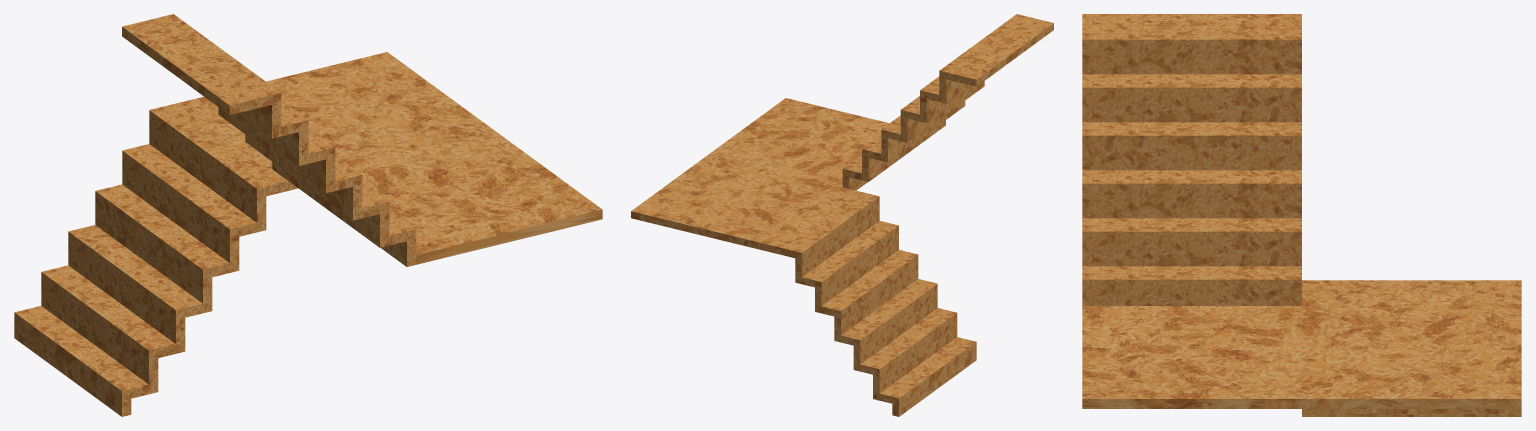
The model's file is Stairs.fbx.
The picture shows the model from 3 angles, left to right: view 1: azimuth 30°, elevation 25°; view 2: azimuth 150°, elevation 25°; view 3: azimuth 270°, elevation 25°; orthographic projection. The views are drawn at different scales.
Visible parts, largest first — view 1: Cube.002, Cube.003; view 2: Cube.002, Cube.003; view 3: Cube.003, Cube.002.
Boxes of the visible parts, bbox=[...] form: Cube.002: bbox=[14, 52, 602, 416]; Cube.003: bbox=[122, 14, 416, 266]; Cube.002: bbox=[631, 98, 976, 416]; Cube.003: bbox=[842, 14, 1053, 190]; Cube.003: bbox=[1082, 14, 1301, 305]; Cube.002: bbox=[1082, 280, 1521, 416].
Size of the model in its own units: 800 by 800 by 800.
